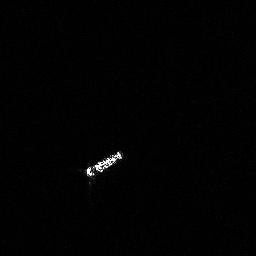ship: (80, 147, 126, 181)
